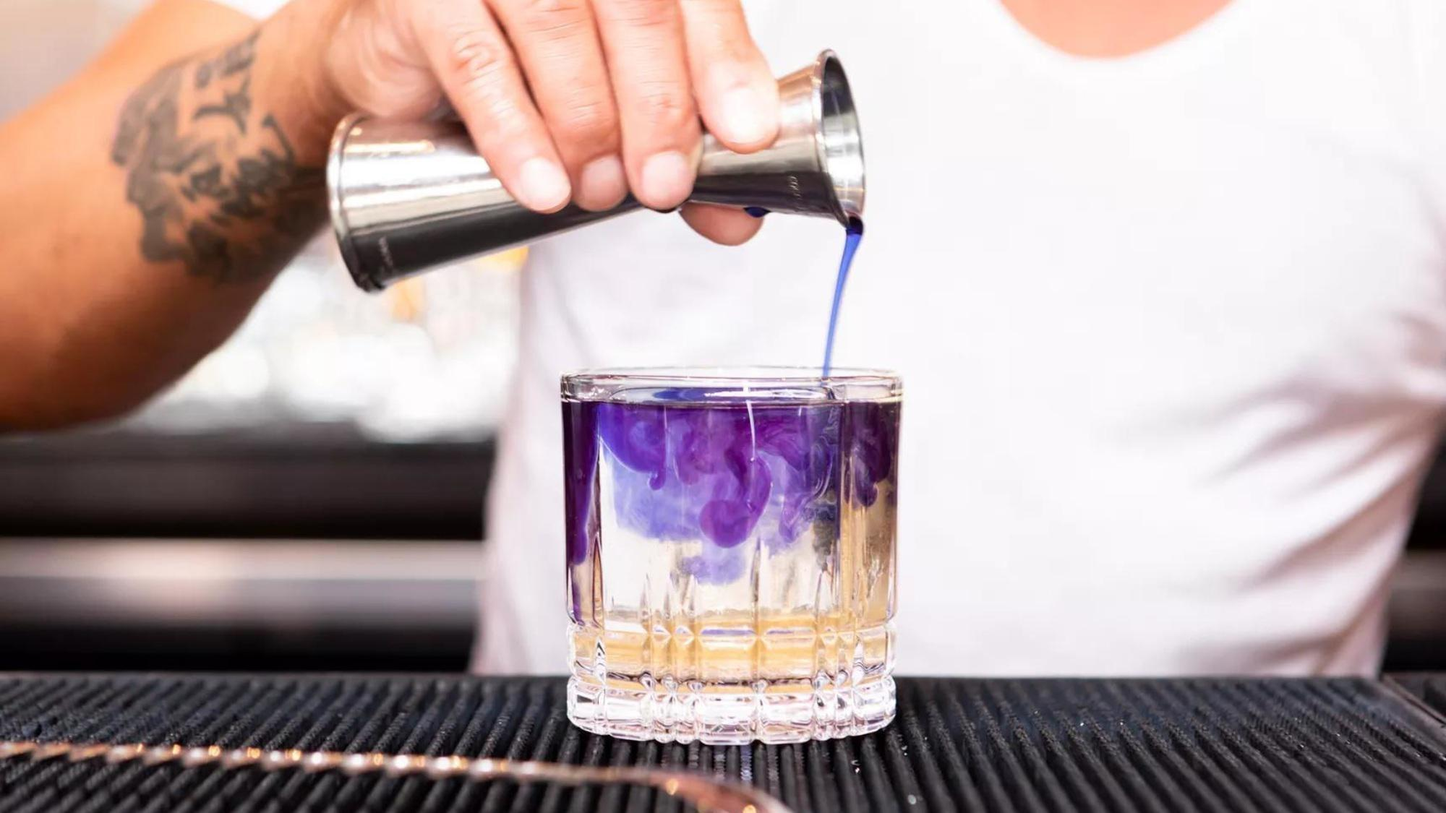glass-normal: (554, 361, 906, 747)
